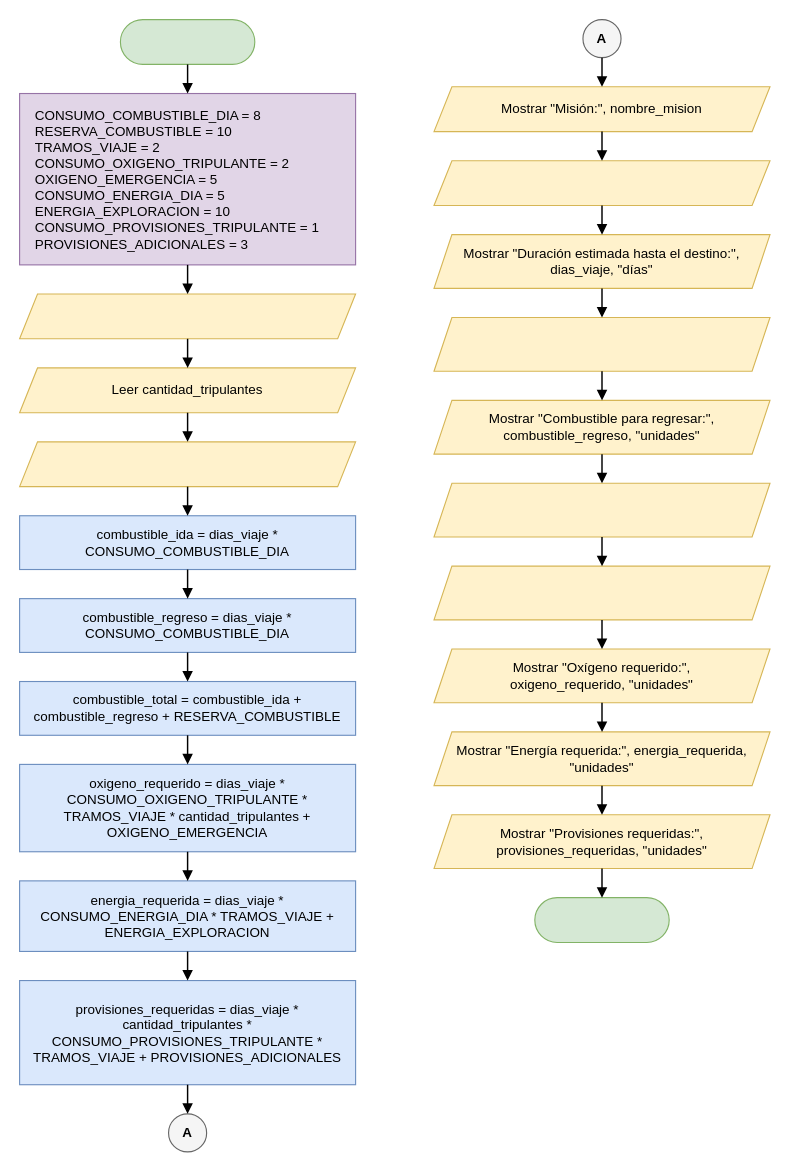
This 790x1172 diagram has some shape labels left out. Each missing label, with the centre of its shape:
Fin: [601,919]
Inicio: [187,41]
Leer dias_viaje: [187,464]
Leer nombre_mision: [187,316]
Mostrar "Combustible para llegar:", combustible_ida, "unidades": [601,343]
Mostrar "Combustible total requerido:", combustible_total, "unidades": [601,592]
Mostrar "Reserva de combustible:", RESERVA_COMBUSTIBLE, "unidades": [601,509]
Mostrar "Tripulantes:", cantidad_tripulantes: [601,183]
